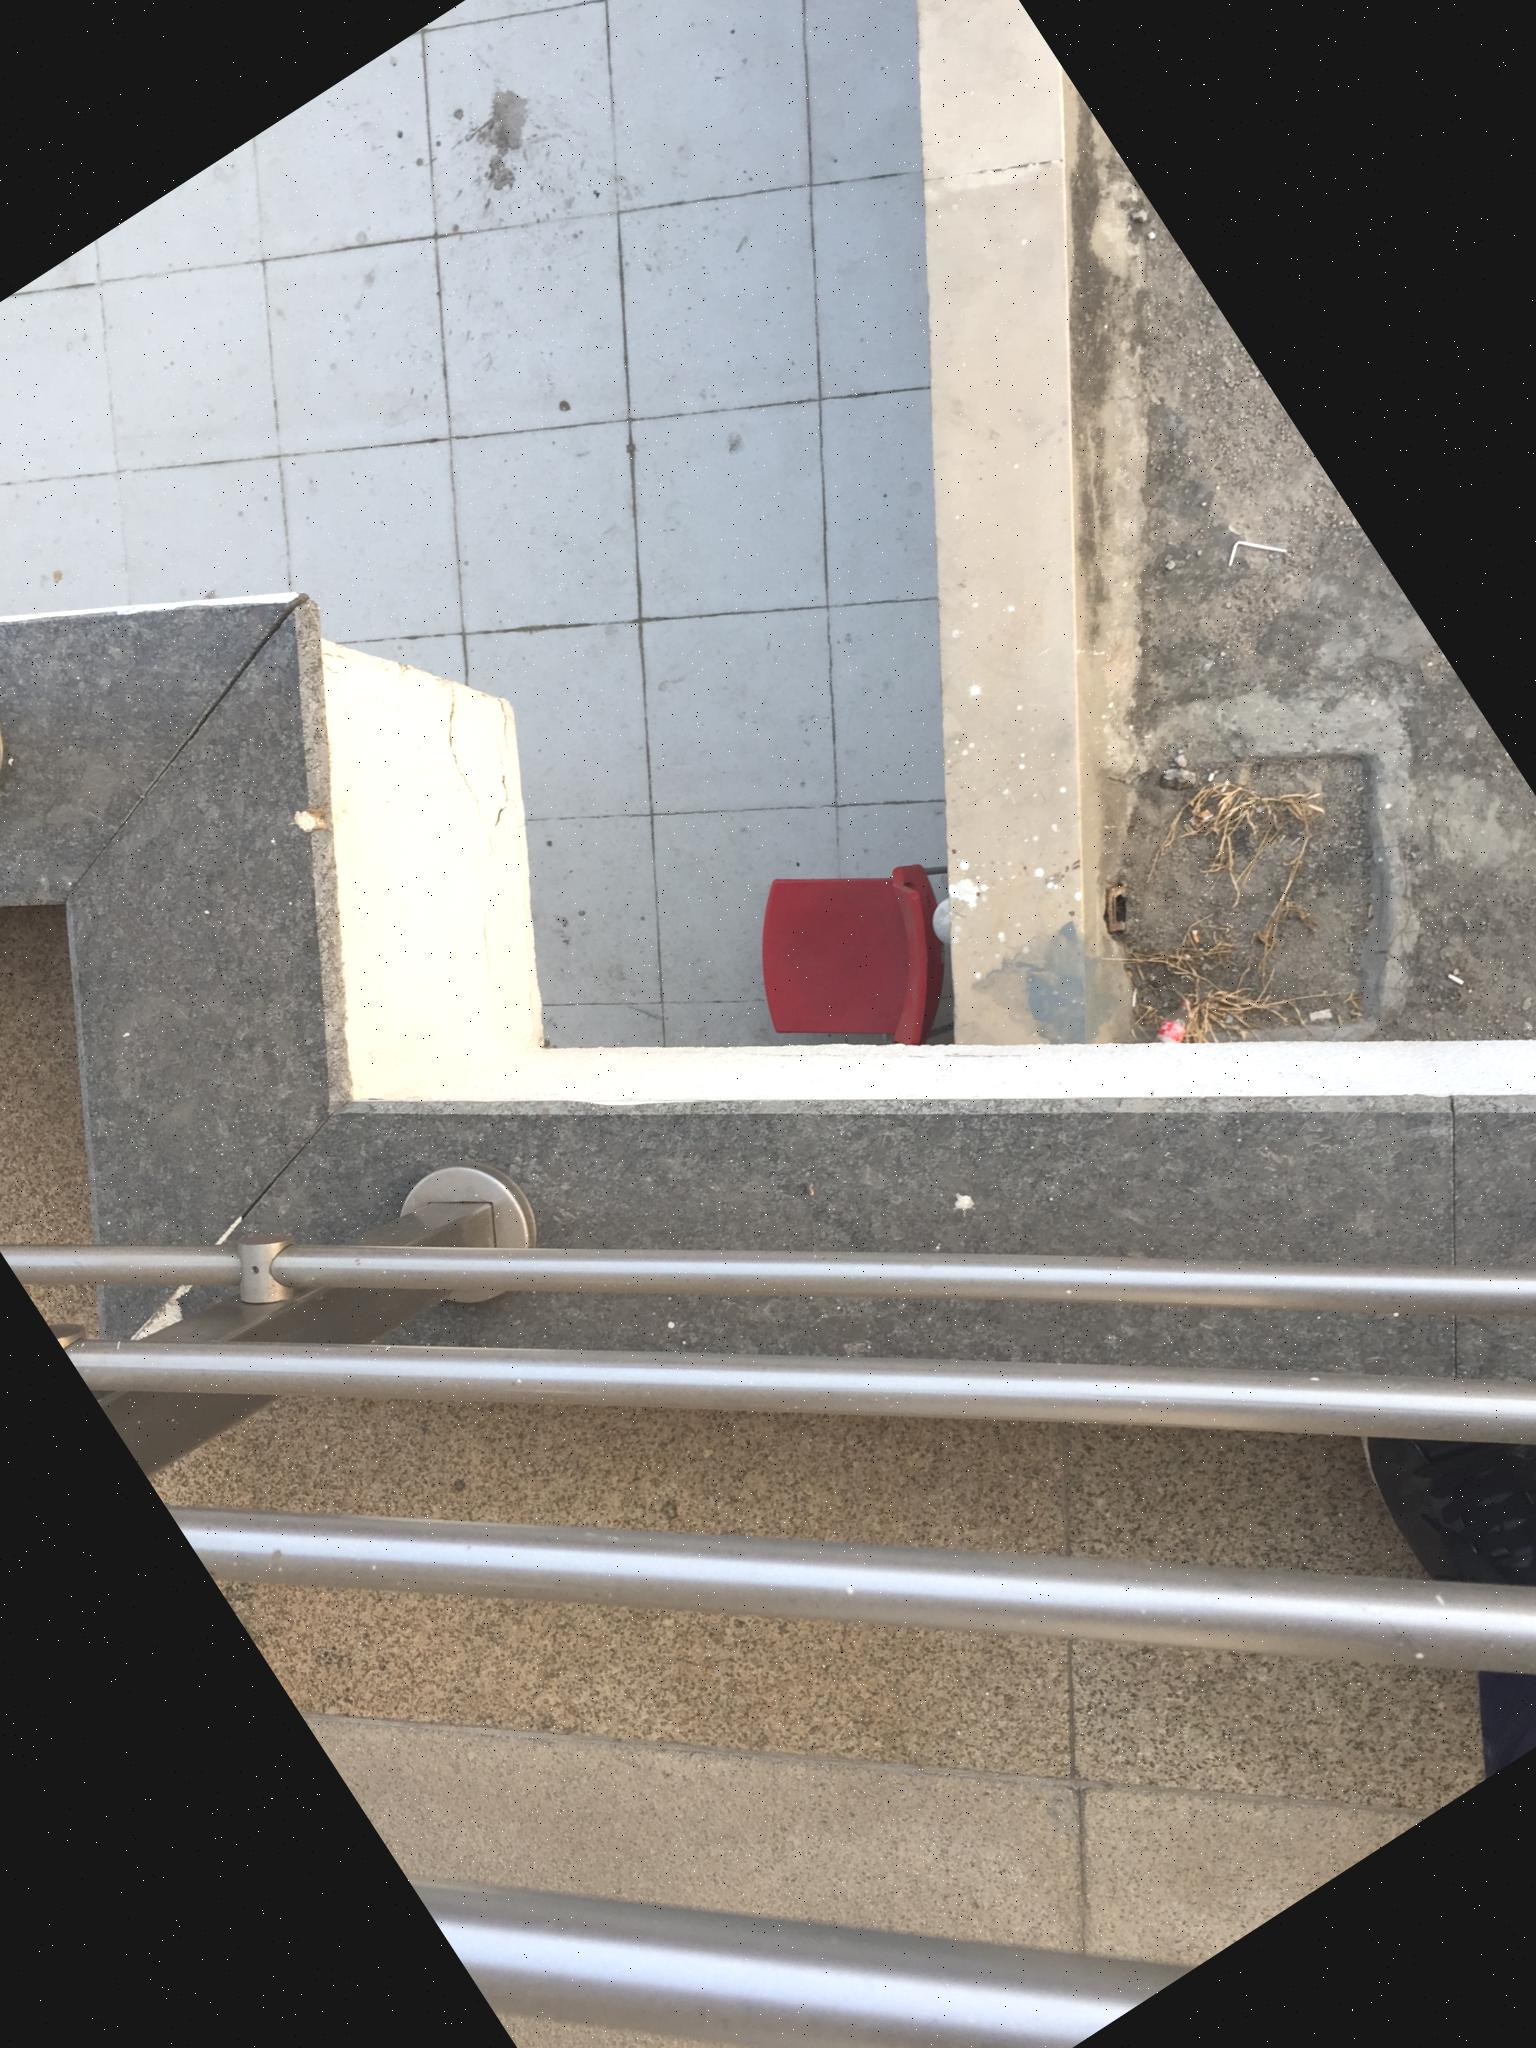chair: (700, 805, 1007, 1109)
